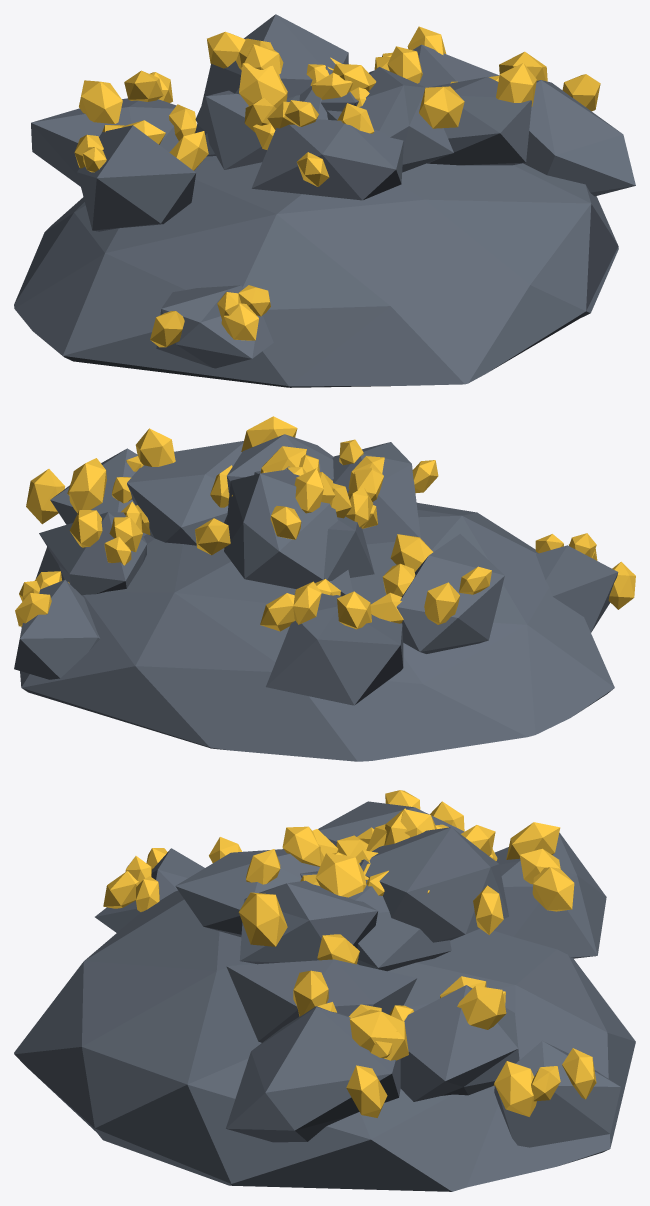
The model's file is Res_OrePile_Gold.fbx.
3 renders of one model, top to bottom at view 1: azimuth 30°, elevation 25°; view 2: azimuth 150°, elevation 25°; view 3: azimuth 270°, elevation 25°, orthographic. The views are drawn at different scales.
Visible parts, largest first — view 1: Res_OrePile_Gold; view 2: Res_OrePile_Gold; view 3: Res_OrePile_Gold.
Boxes of the visible parts, x1,y1,x2,y2 form: Res_OrePile_Gold: (14, 14, 635, 387); Res_OrePile_Gold: (14, 416, 635, 761); Res_OrePile_Gold: (14, 790, 635, 1191).
Size of the model in its own units: 1.05 by 0.3905 by 0.9164.
